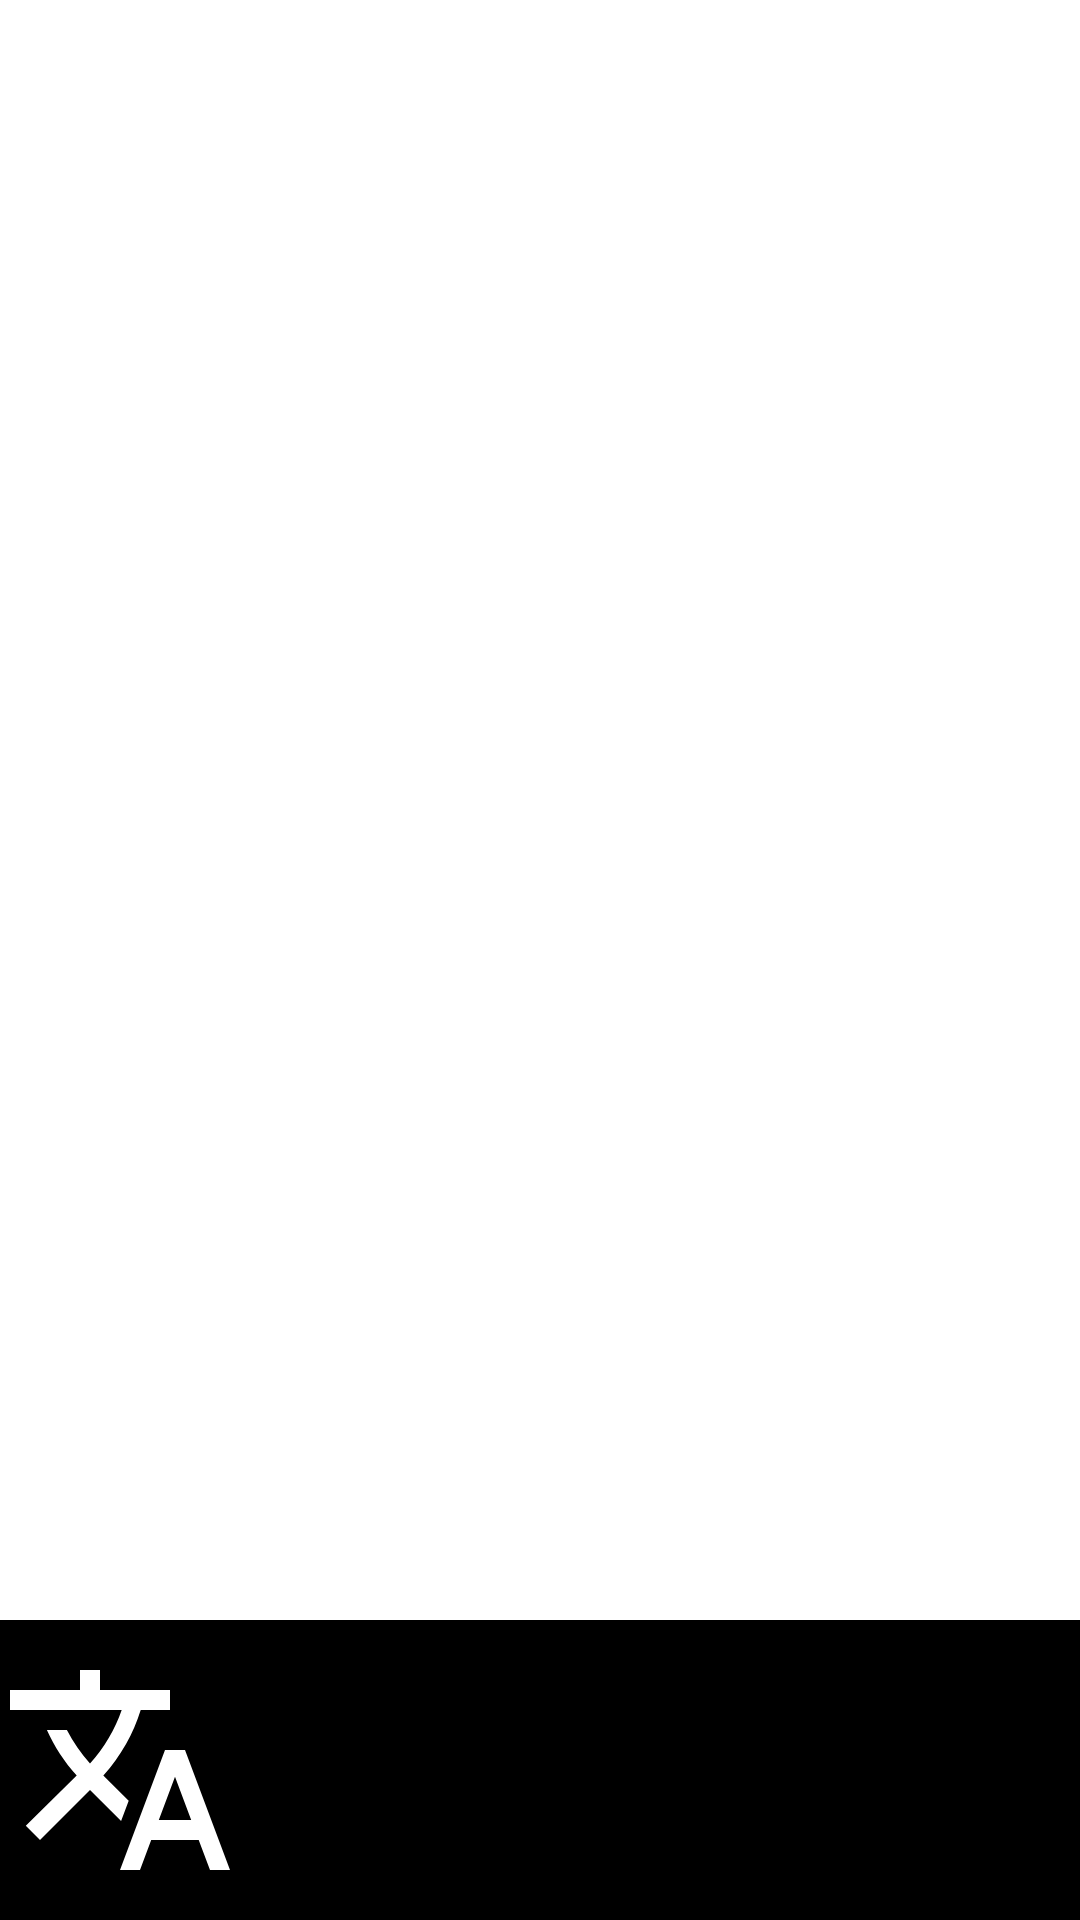

Screen size 1080 x 1920. Icon name, then its center in pixels as (x,y):
translate: (120,1770)
